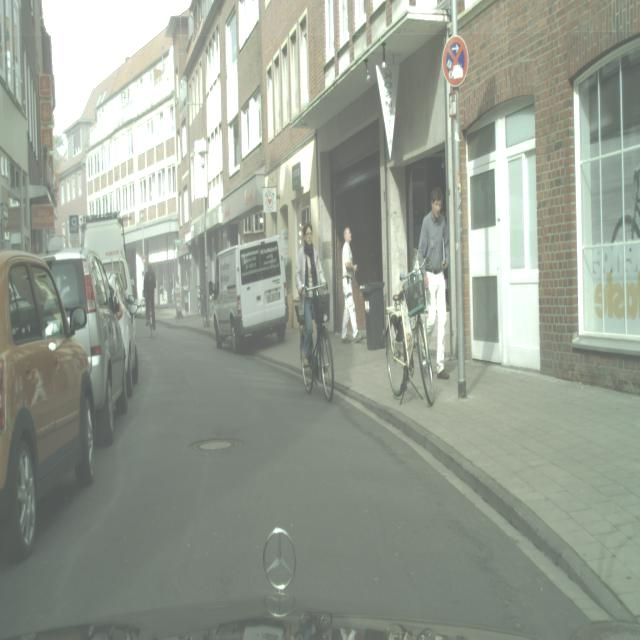car: (385, 251, 434, 406), (296, 289, 335, 401)
person: (417, 186, 450, 379), (294, 221, 329, 380), (341, 226, 359, 342), (143, 262, 157, 334)
rider: (81, 216, 138, 378), (211, 236, 288, 352)
truck: (0, 249, 96, 559), (42, 247, 128, 446), (105, 267, 139, 395)
